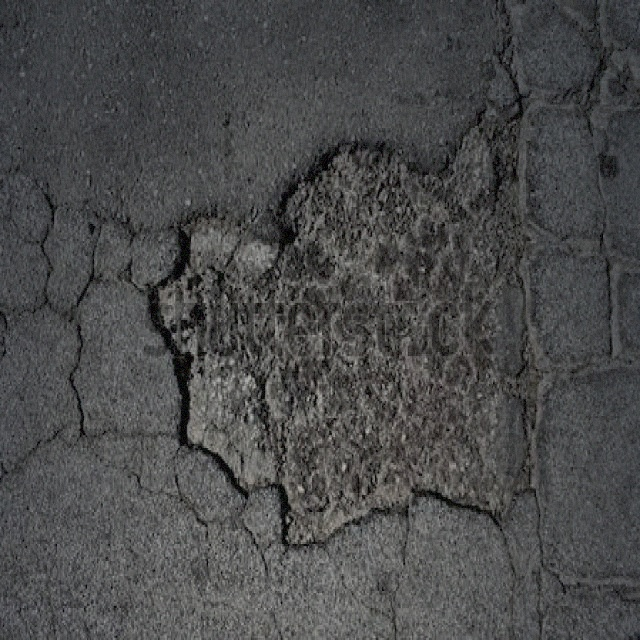pothole: (144, 128, 537, 553)
